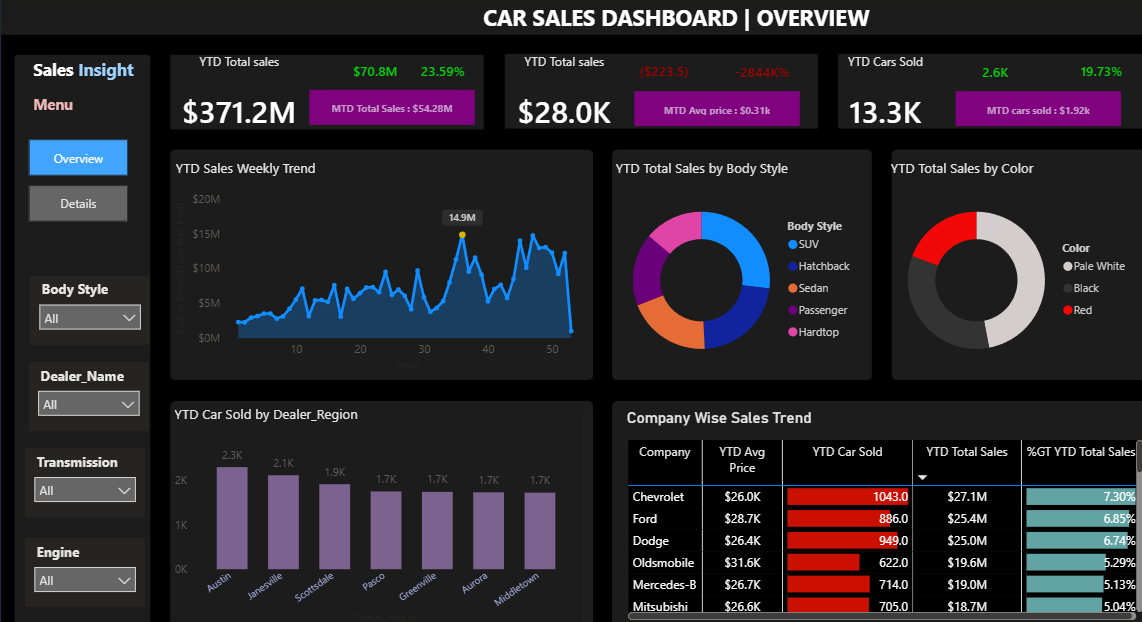

Layout of this report page (visuals, bound fields, positions):
{"tool":"powerbi","page":{"name":"Overview","canvas":[1280,720],"ordinal":0},"visuals":[{"type":"cardVisual","title":"YTD Total sales","fields":{"Data":["car_data.YTD Total Sales"]},"box":[155.1,60.4,215.4,94.7],"z":0},{"type":"cardVisual","fields":{"Data":["car_data.Sales Different"]},"box":[358.6,51.4,108.4,54.9],"z":1000},{"type":"cardVisual","fields":{"Data":["car_data.YOY Sales Growth"]},"box":[432.9,51.4,108.4,54.9],"z":2000},{"type":"cardVisual","fields":{"Data":["car_data.MTD KPI"]},"box":[334.3,95.7,191.4,48.6],"z":3000},{"type":"cardVisual","title":"YTD Total sales","fields":{"Data":["car_data.YTD Avg Price"]},"box":[511.2,60,215.4,94.7],"z":4000},{"type":"cardVisual","fields":{"Data":["car_data.AVG price Diff"]},"box":[671.2,51.2,116.2,55],"z":5000},{"type":"cardVisual","fields":{"Data":["car_data.YOY Avg price Growth"]},"box":[763.8,52.5,145,55],"z":6000},{"type":"cardVisual","fields":{"Data":["car_data.MTD Avg Price KPI"]},"box":[691.2,97.5,191.4,48.6],"z":7000},{"type":"cardVisual","title":"YTD Cars Sold","fields":{"Data":["car_data.YTD Car Sold"]},"box":[865,60,215.4,94.7],"z":8000},{"type":"cardVisual","fields":{"Data":["car_data.Car Sold Diff"]},"box":[1035,52.5,116.2,55],"z":9000},{"type":"cardVisual","fields":{"Data":["car_data.YOY Car Sold Growth"]},"box":[1151.2,51.2,116.2,55],"z":10000},{"type":"cardVisual","fields":{"Data":["car_data.MTD Cars Sold KPI"]},"box":[1043.8,97.5,191.4,48.6],"z":11000},{"type":"areaChart","title":"YTD  Sales Weekly Trend ","fields":{"Category":["Calander Table.Week"],"Y":["Sum(car_data.Price ($))","car_data.Max Point"]},"box":[187.5,176.2,461.2,237.5],"z":12000},{"type":"donutChart","fields":{"Category":["car_data.Body Style"],"Y":["car_data.YTD Total Sales"]},"box":[671.2,176.2,276.2,237.5],"z":13000},{"type":"donutChart","fields":{"Y":["car_data.YTD Total Sales"],"Category":["car_data.Color"]},"box":[972.5,176.2,276.2,237.5],"z":14000},{"type":"clusteredColumnChart","fields":{"Category":["car_data.Dealer_Region"],"Y":["car_data.YTD Car Sold"]},"box":[187,446.4,452.4,244.9],"z":15000},{"type":"tableEx","title":"Company Wise Sales Trend ","fields":{"Values":["car_data.Company","car_data.YTD Avg Price","car_data.YTD Car Sold","car_data.YTD Total Sales1","car_data.YTD Total Sales"]},"box":[682.8,450,577.9,237.7],"z":16000},{"type":"textbox","box":[526,0,535.7,42.2],"z":17000},{"type":"slicer","fields":{"Values":["car_data.Body Style"]},"box":[32.6,305.2,131.5,76],"z":18000},{"type":"slicer","fields":{"Values":["car_data.Dealer_Name"]},"box":[31.4,399.3,131.5,76],"z":19000},{"type":"slicer","fields":{"Values":["car_data.Transmission"]},"box":[27.7,493.4,131.5,76],"z":20000},{"type":"slicer","fields":{"Values":["car_data.Engine"]},"box":[27.7,592.4,131.5,76],"z":21000},{"type":"textbox","box":[31.4,60.3,125.5,50.7],"z":21001},{"type":"textbox","box":[31.4,100.1,72.4,37.4],"z":21002},{"type":"pageNavigator","box":[31.4,154.4,109.8,91.7],"z":21003}]}

Visuals, with their boxes on the page's 1280x720 design canvas (x1, y1, x2, y2). These are canvas units, not pixel positions in the 1142x622 screenshot, which may show the page scaled, cropped or inside an application window:
"YTD Total sales" cardVisual: 155/60/370/155
cardVisual - car_data.Sales Different: 359/51/467/106
cardVisual - car_data.YOY Sales Growth: 433/51/541/106
cardVisual - car_data.MTD KPI: 334/96/526/144
"YTD Total sales" cardVisual: 511/60/727/155
cardVisual - car_data.AVG price Diff: 671/51/787/106
cardVisual - car_data.YOY Avg price Growth: 764/52/909/108
cardVisual - car_data.MTD Avg Price KPI: 691/98/883/146
"YTD Cars Sold" cardVisual: 865/60/1080/155
cardVisual - car_data.Car Sold Diff: 1035/52/1151/108
cardVisual - car_data.YOY Car Sold Growth: 1151/51/1267/106
cardVisual - car_data.MTD Cars Sold KPI: 1044/98/1235/146
"YTD  Sales Weekly Trend " areaChart: 188/176/649/414
donutChart - car_data.Body Style x car_data.YTD Total Sales: 671/176/947/414
donutChart - car_data.YTD Total Sales x car_data.Color: 972/176/1249/414
clusteredColumnChart - car_data.Dealer_Region x car_data.YTD Car Sold: 187/446/639/691
"Company Wise Sales Trend " tableEx: 683/450/1261/688
textbox: 526/0/1062/42
slicer - car_data.Body Style: 33/305/164/381
slicer - car_data.Dealer_Name: 31/399/163/475
slicer - car_data.Transmission: 28/493/159/569
slicer - car_data.Engine: 28/592/159/668
textbox: 31/60/157/111
textbox: 31/100/104/138
pageNavigator: 31/154/141/246
